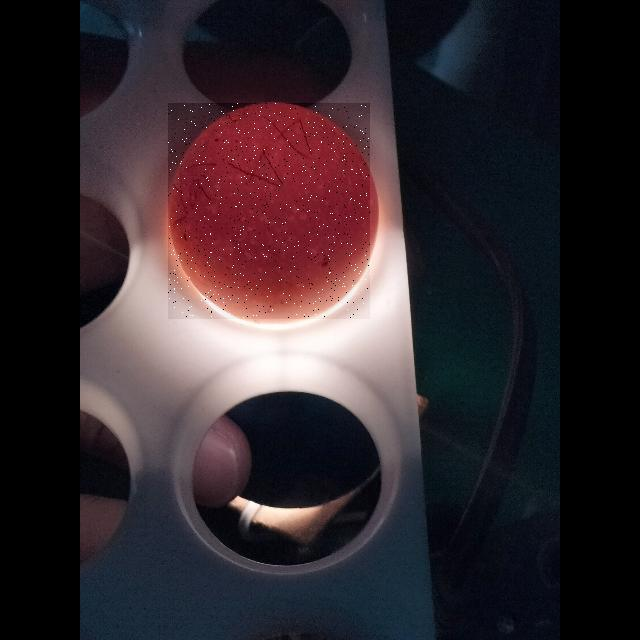B - Fair: (168, 103, 370, 319)
